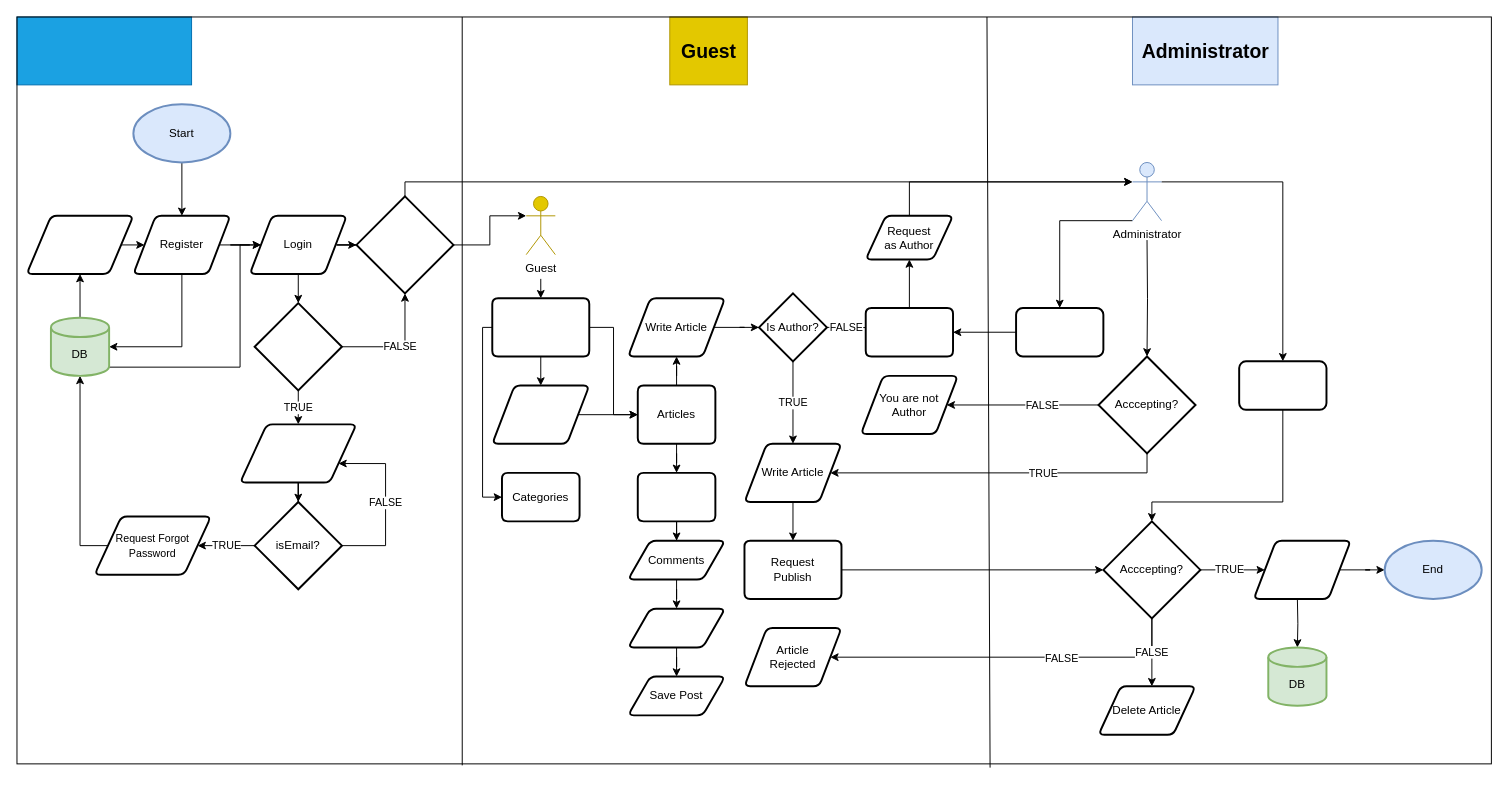
This 1508x786 diagram has some shape labels left out. Each missing label, with the centre of its shape:
"Administrator or Guest" belongs at point 404,244.
"Article Published" belongs at point 1301,569.
"Article View" belongs at point 676,496.
"Email" belongs at point 298,453.
"Forgot Password?" belongs at point 297,346.
"Home" belongs at point 540,327.
"Likes" belongs at point 676,627.
"Main Business Flow Click Media News App" belongs at point 104,50.
"Notifications" belongs at point 1059,332.
"Profile" belongs at point 909,332.
"Role" belongs at point 79,244.
"Search" belongs at point 540,414.
"Waiting Lists articles to publish" belongs at point 1282,385.
